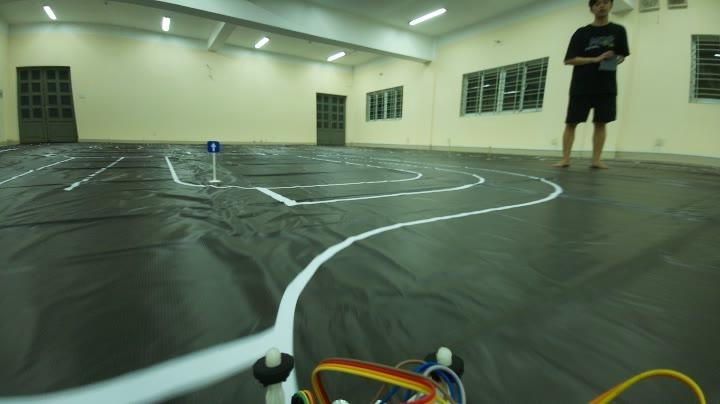onewayroad: (204, 139, 222, 158)
